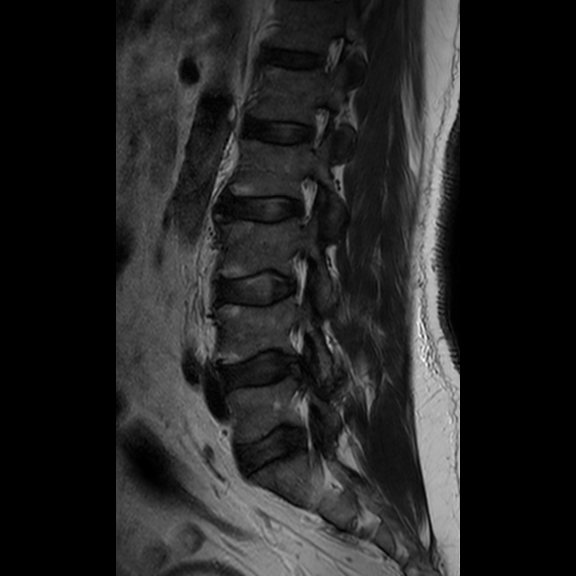LFS0: (287, 167, 326, 234), (298, 95, 335, 157)
